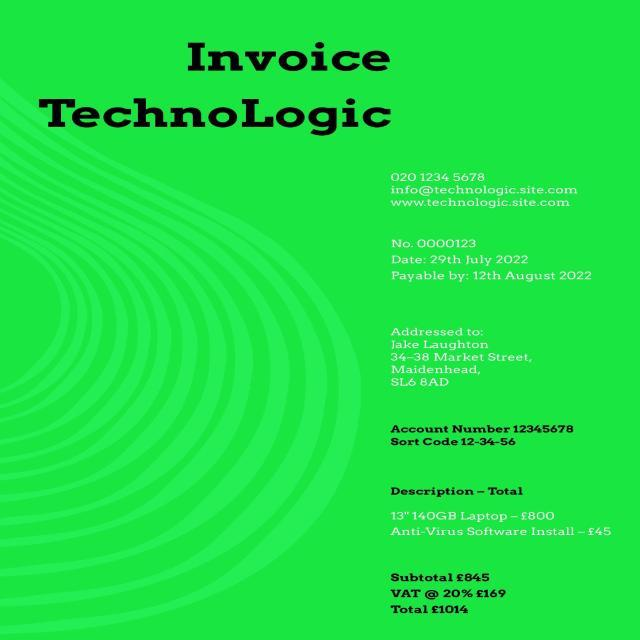ROI: (32, 87, 397, 138), (383, 479, 627, 548), (386, 228, 605, 295), (170, 24, 406, 80), (381, 152, 588, 215), (381, 322, 554, 396), (384, 418, 596, 454), (382, 570, 515, 620)
